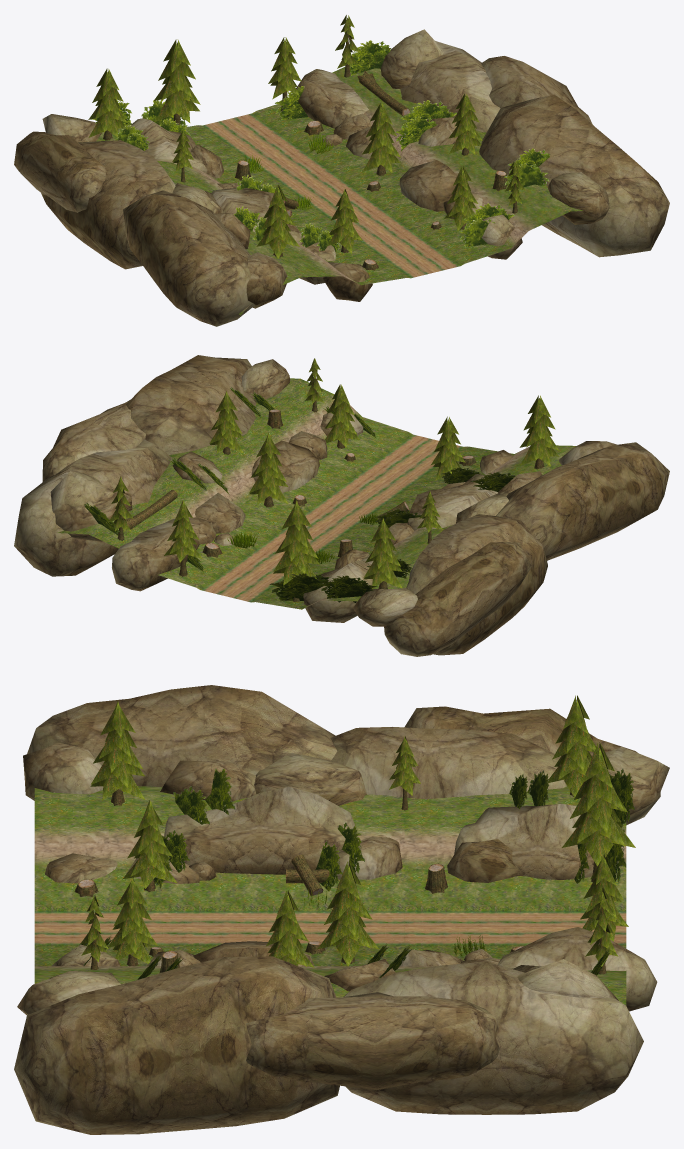
The model's file is BikeRoad06.FBX.
The picture shows the model from 3 angles, top to bottom: view 1: azimuth 30°, elevation 25°; view 2: azimuth 150°, elevation 25°; view 3: azimuth 270°, elevation 25°; orthographic projection. The views are drawn at different scales.
Parts seen in each view (by area): view 1: Rock (×22), Ground, Tree (×11), GrassPlane (×7), Log; view 2: Rock (×21), Ground, Tree (×11), GrassPlane (×2), Log; view 3: Rock (×22), Ground, Tree (×11), GrassPlane (×6).
Boxes of the visible parts, bbox=[...] form: Rock (×22): bbox=[14, 29, 669, 326]; Ground: bbox=[96, 66, 611, 315]; Tree (×11): bbox=[88, 15, 525, 258]; GrassPlane (×7): bbox=[275, 40, 549, 246]; Log: bbox=[357, 71, 410, 115]; Rock (×21): bbox=[14, 355, 669, 656]; Ground: bbox=[57, 378, 575, 609]; Tree (×11): bbox=[108, 358, 559, 601]; GrassPlane (×2): bbox=[269, 573, 377, 602]; Log: bbox=[125, 490, 177, 529]; Rock (×22): bbox=[14, 685, 669, 1134]; Ground: bbox=[34, 786, 626, 1005]; Tree (×11): bbox=[80, 695, 635, 974]; GrassPlane (×6): bbox=[161, 768, 634, 891].
Bounding box in the file's own units: 5401 × 1530 × 4436.
